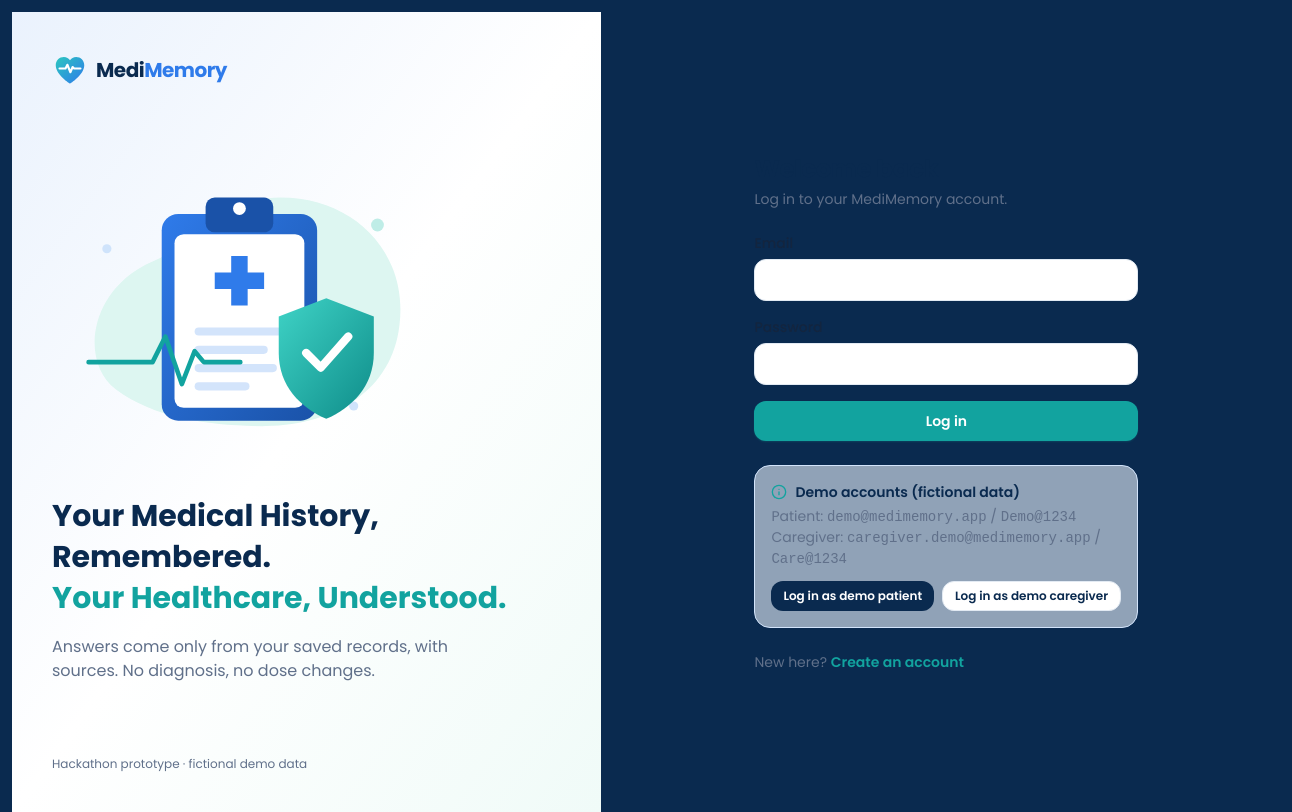
authentication flow › validates input and logs in
Step 1. Click the button "Log in" → coordinates (946, 420), box [754,400,1138,440]
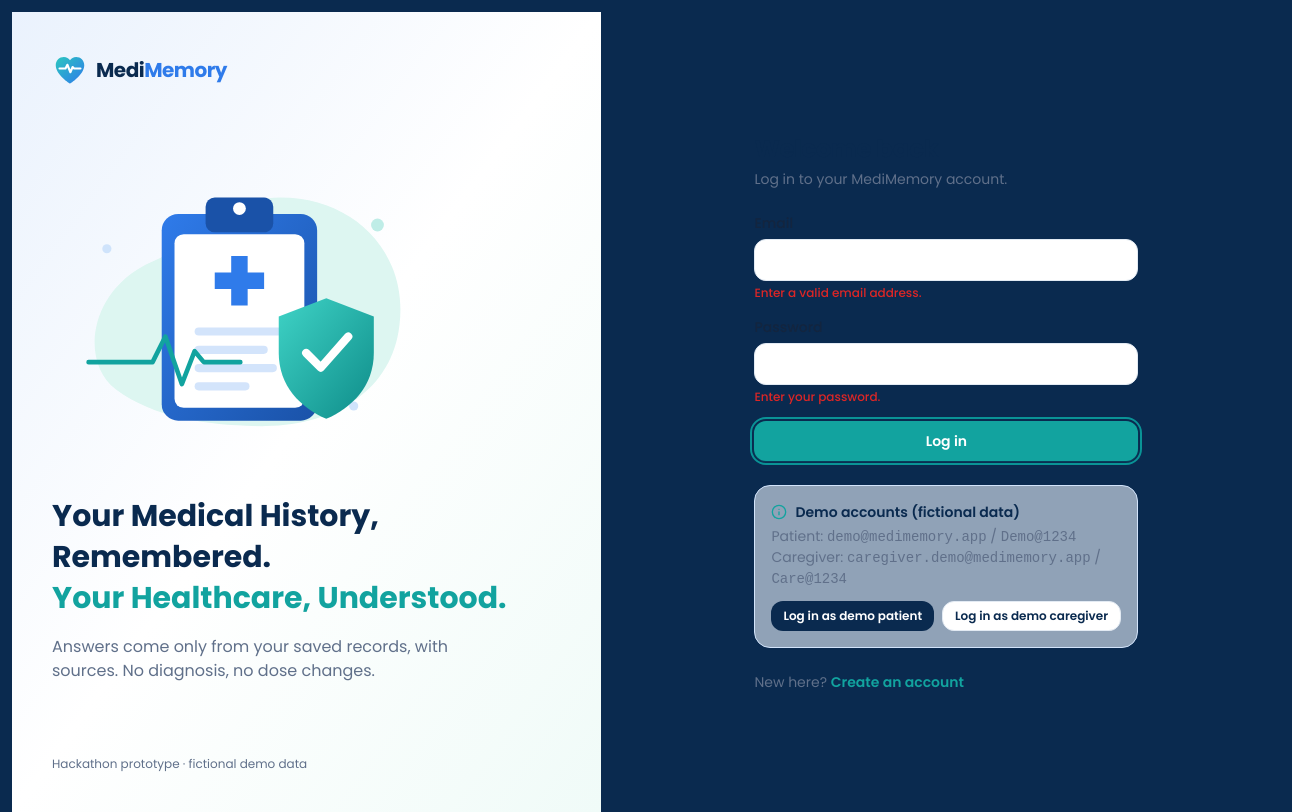
Result: the text "Enter a valid email address." is shown at [754,284,922,300]
Step 2. Type "demo@medimemory.app" into the field labelled "Email" → coordinates (946, 260), box [754,238,1138,280]
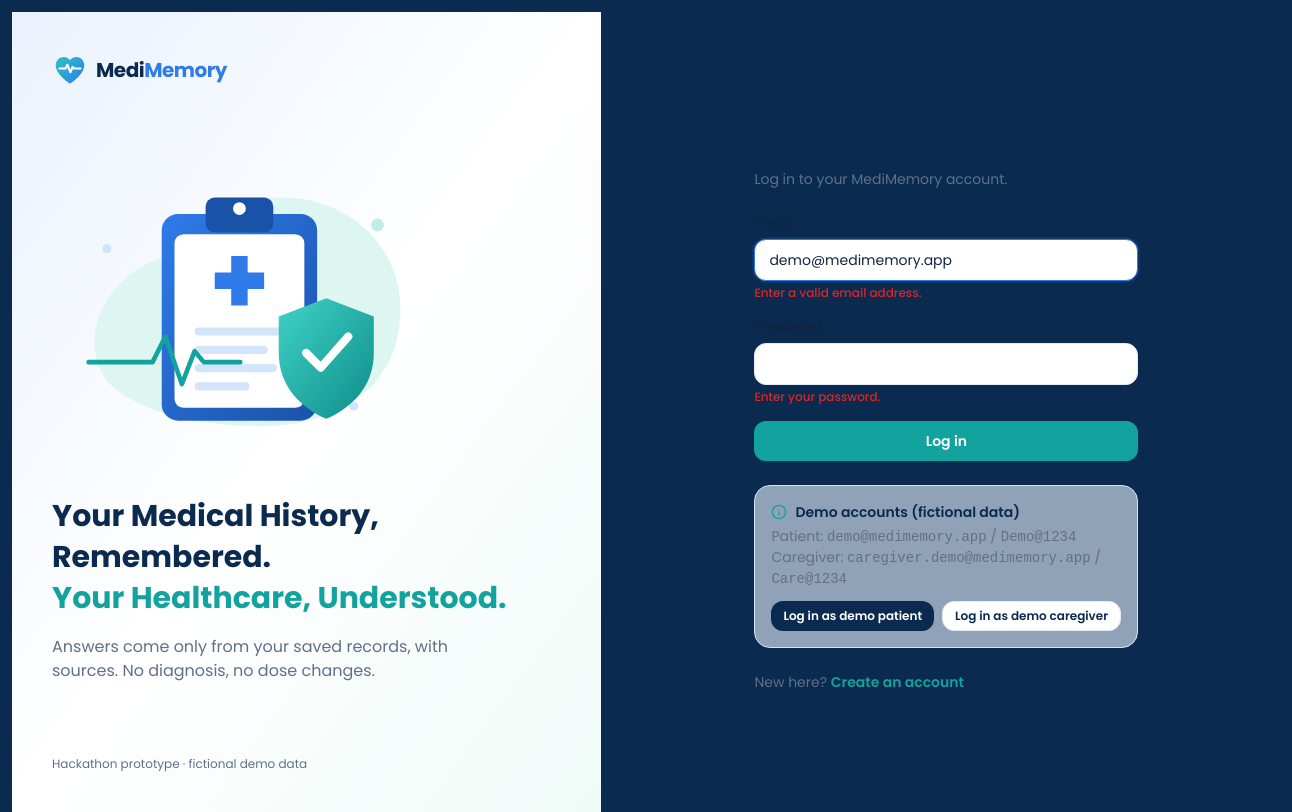
Step 3. Type "Demo@1234" into the password field labelled "Password" → coordinates (946, 364), box [754,342,1138,384]
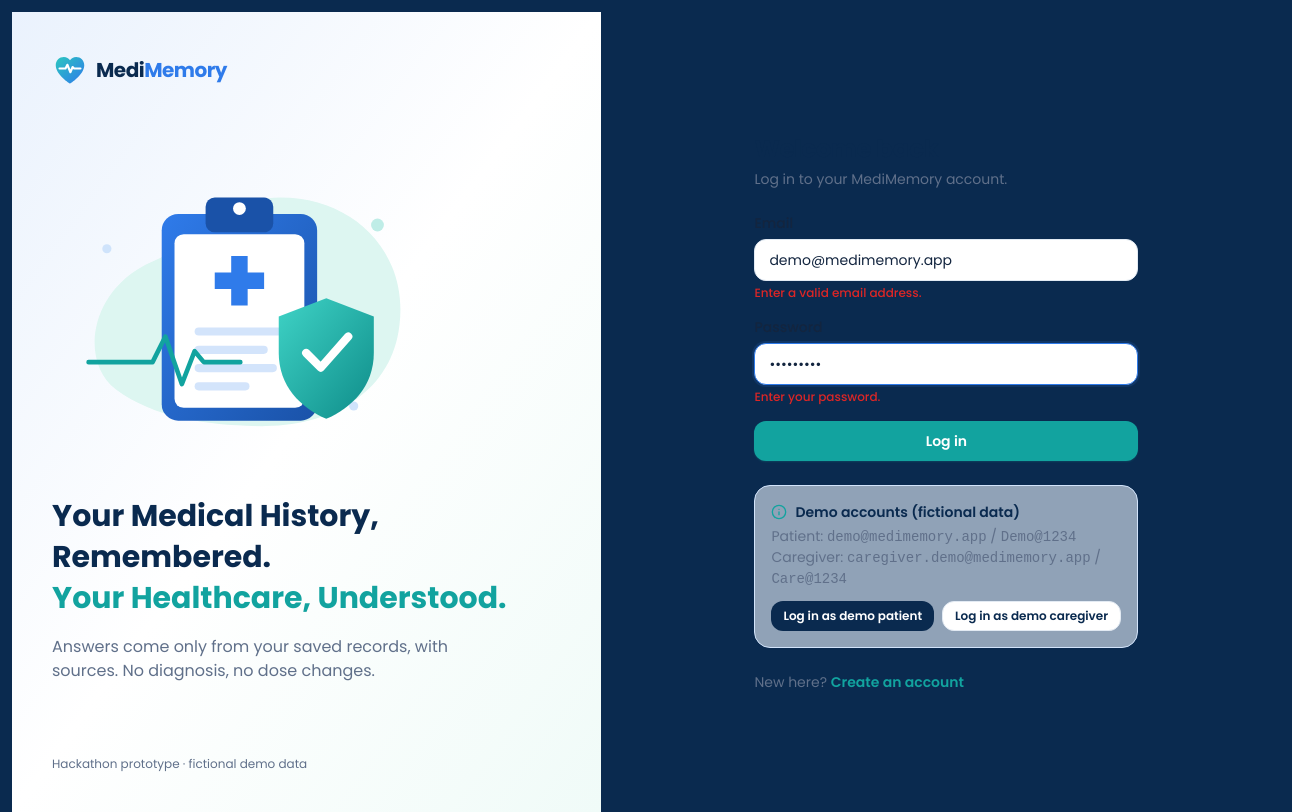
Step 4. Click the button "Log in" → coordinates (946, 440), box [754,420,1138,460]
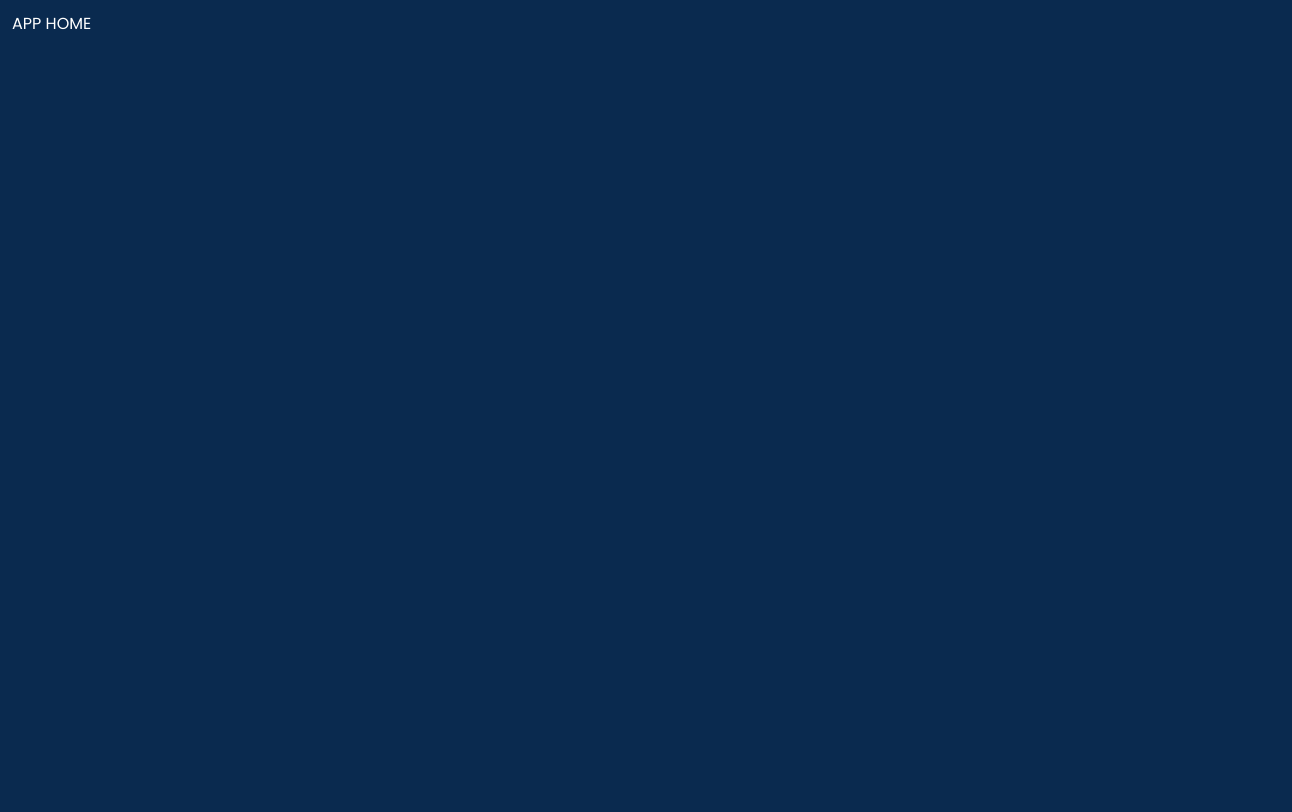
Result: the text "APP HOME" is shown at [12,12,91,35]
